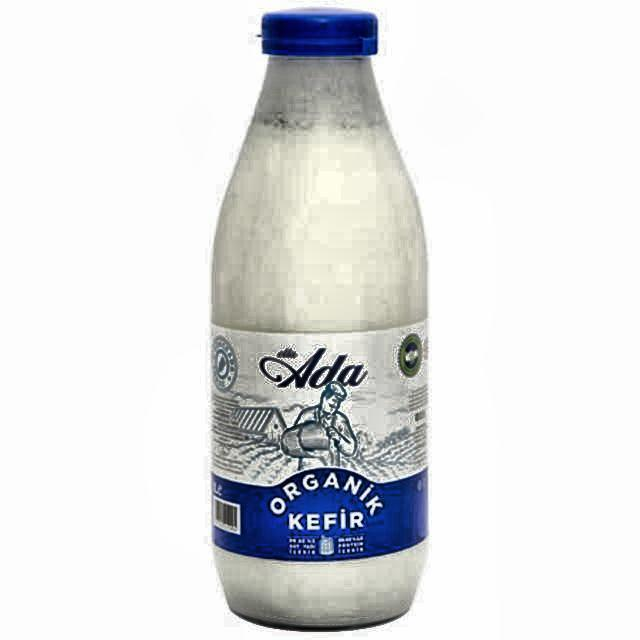plastic: (207, 10, 432, 634)
